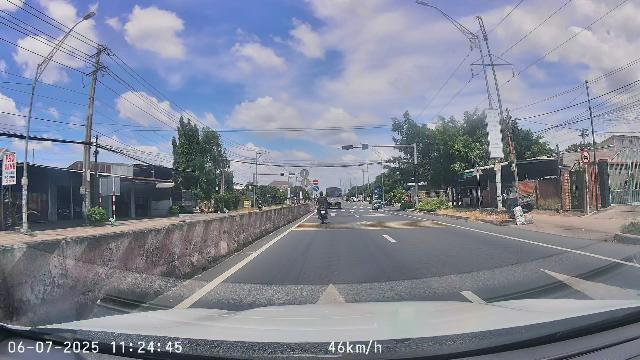102-cam-di-nguoc-chieu: (313, 179, 319, 185)
103a-cam-oto: (581, 150, 590, 165)
302a-huong-phai-di-vong-chuong-ngai-vat-1: (313, 186, 319, 191)
